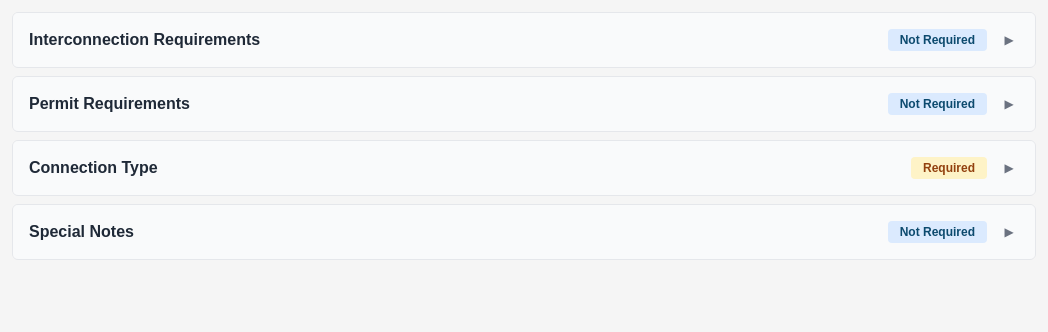
Test case: DetailAccordion Component › Expand/Collapse Functionality › expands item when header is clicked
Click the button with test id "accordion-header-interconnection": (145, 40) [13, 13, 1035, 67]
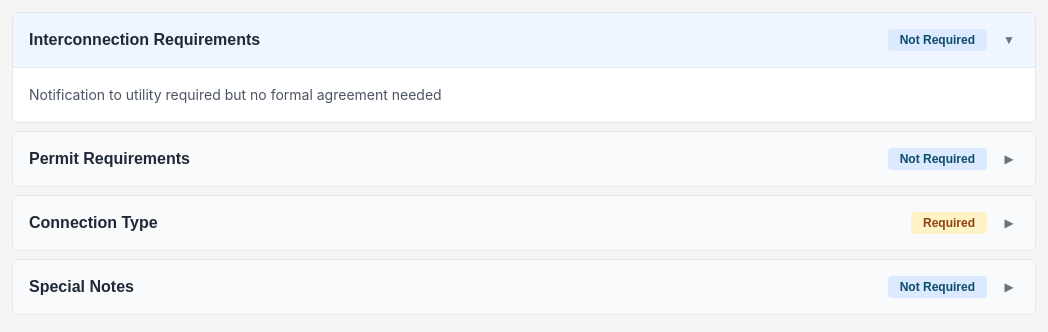
Expected: the text "Notification to utility required but no formal agreement needed" is shown, [29, 86, 442, 103]
